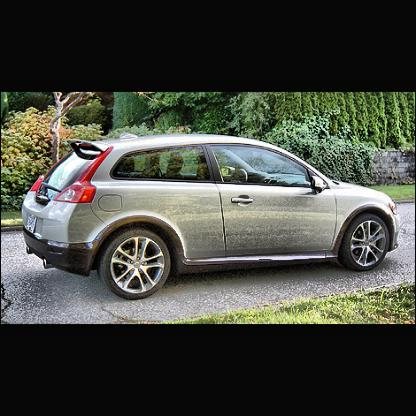Volvo C30 Hatchback 2012: (21, 138, 400, 299)
